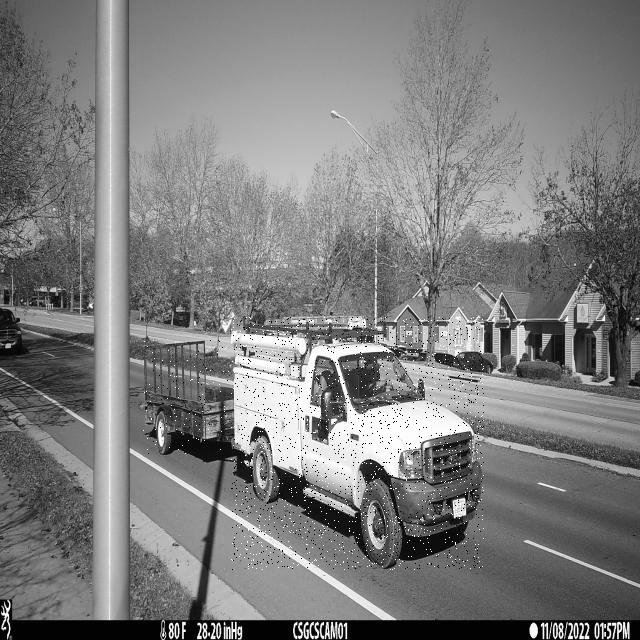Pickup- Utility: (231, 317, 484, 570)
Trailer: (143, 340, 234, 456)
